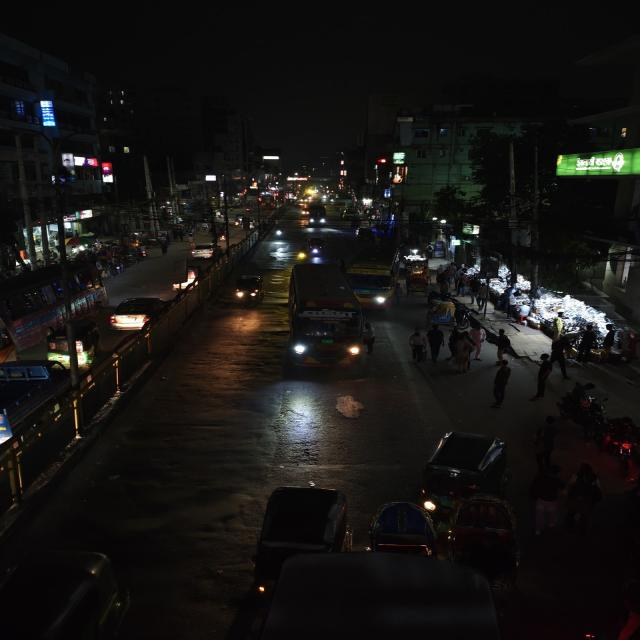bus: (0, 260, 107, 362), (286, 262, 368, 370), (348, 247, 402, 307)
car: (108, 292, 176, 332), (188, 234, 225, 258)
cng: (416, 427, 514, 502), (46, 320, 101, 368), (232, 272, 266, 308), (304, 236, 326, 260)
motorcycle: (585, 413, 640, 467), (559, 381, 610, 427), (272, 226, 287, 240), (297, 244, 308, 262)
pedestrian: (528, 464, 568, 534), (530, 413, 565, 467), (487, 362, 517, 406), (452, 329, 476, 374), (532, 352, 557, 395), (406, 327, 431, 365), (425, 324, 447, 362), (493, 328, 517, 362)
pickup_van: (1, 357, 68, 455)
rickshaw: (446, 493, 527, 575), (364, 498, 441, 558), (426, 299, 458, 327), (405, 275, 428, 298)
